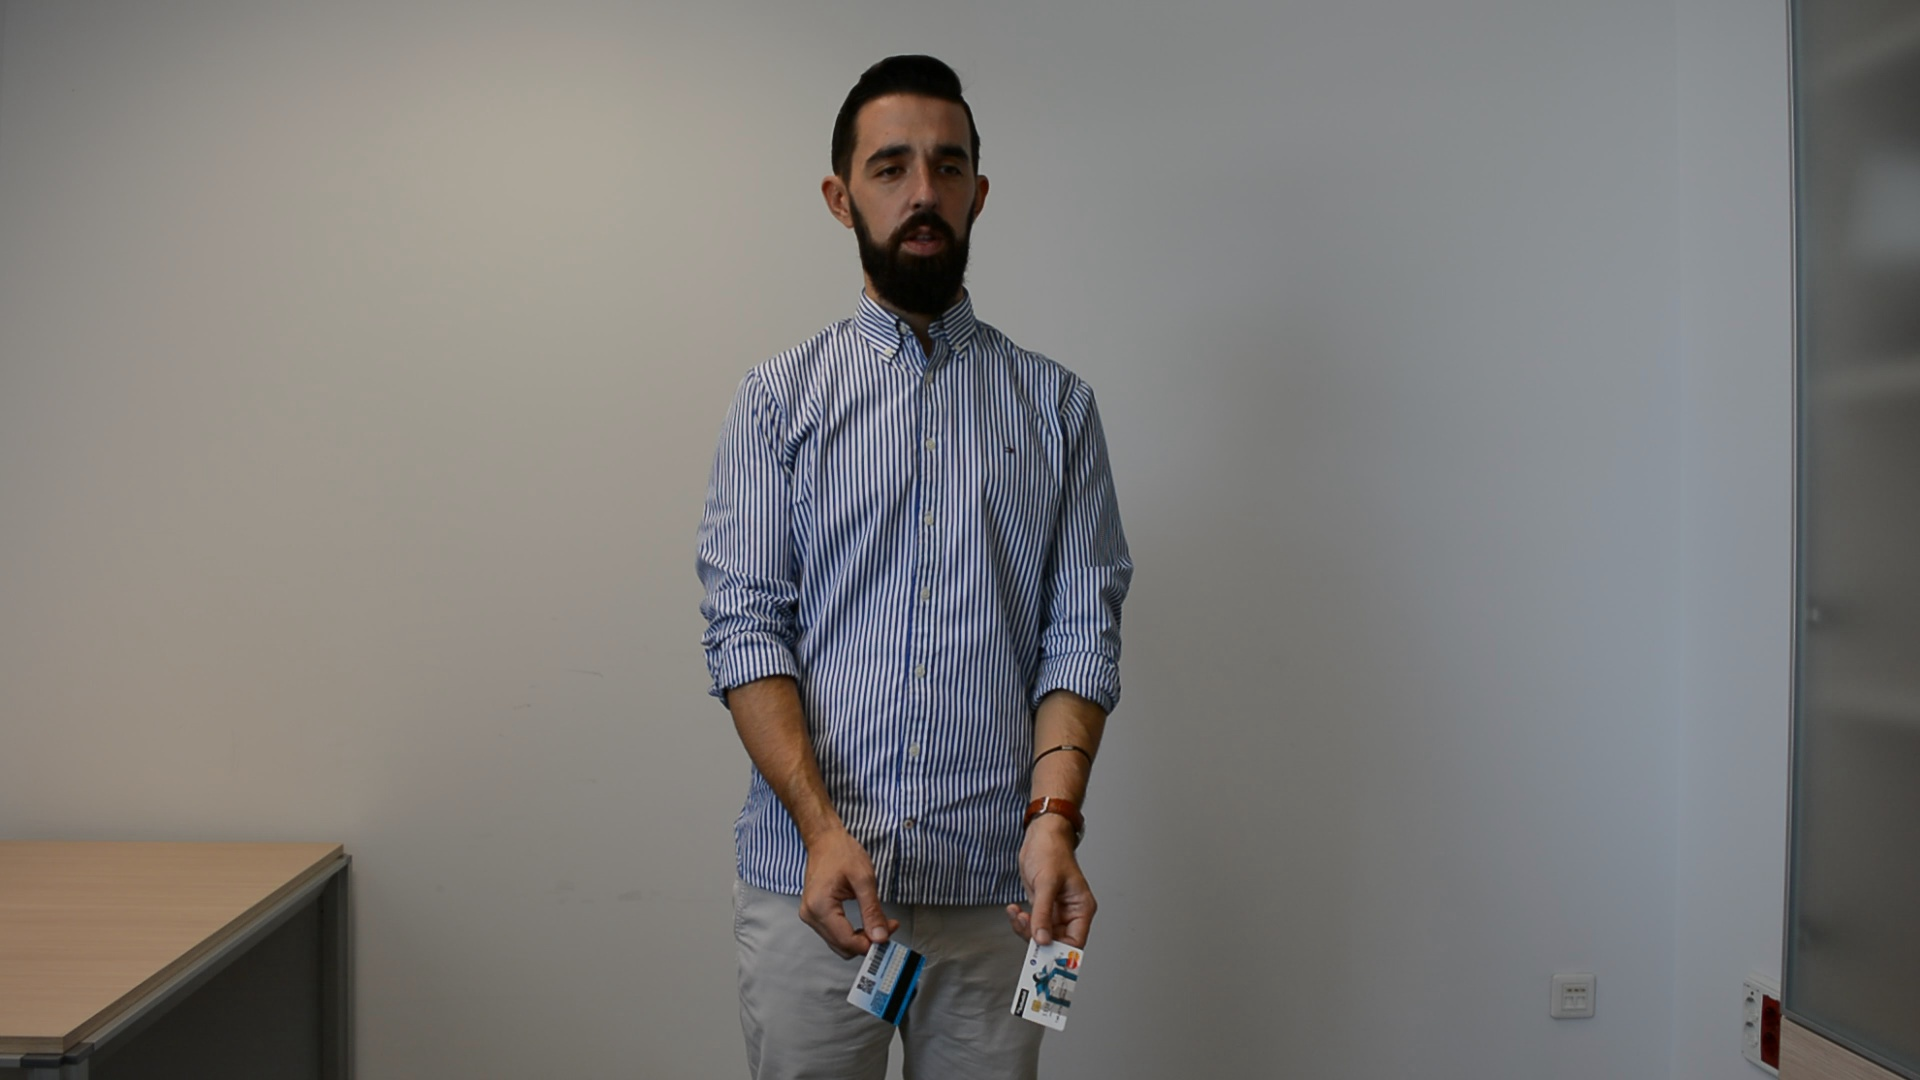tarjeta: (1007, 930, 1088, 1035), (847, 934, 931, 1027)
